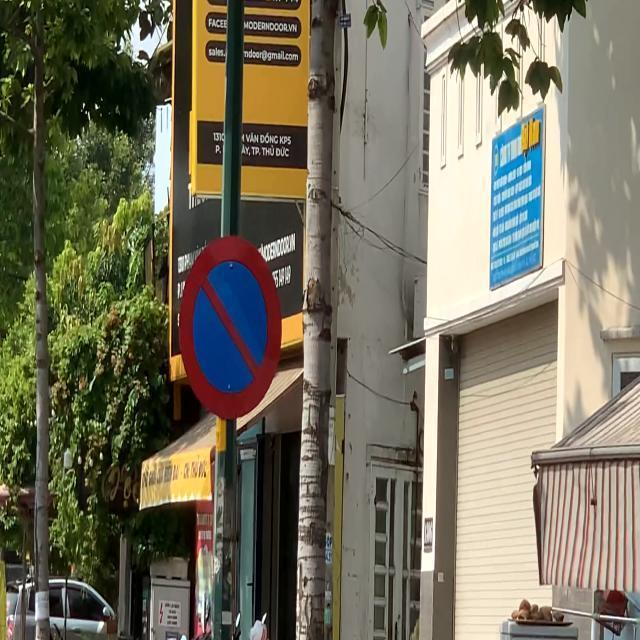131a-cam-do-xe: (179, 238, 280, 416)
